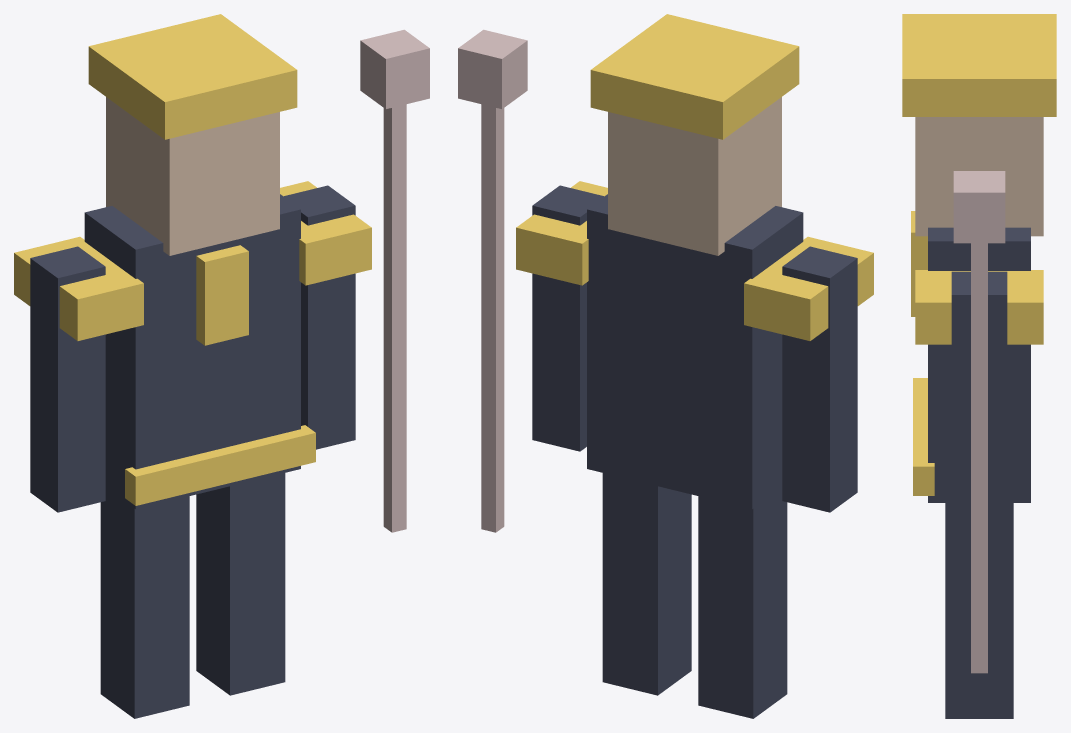
The model's file is 18_calder_stormhush_responder_near_freight.glb.
3 views of the same model, side by side, from view 1: azimuth 30°, elevation 25°; view 2: azimuth 150°, elevation 25°; view 3: azimuth 270°, elevation 25° (orthographic).
Visible parts, largest first — view 1: Calder Stormhush, Responder near Freight; view 2: Calder Stormhush, Responder near Freight; view 3: Calder Stormhush, Responder near Freight.
Boxes of the visible parts, bbox=[...] form: Calder Stormhush, Responder near Freight: bbox=[14, 14, 429, 718]; Calder Stormhush, Responder near Freight: bbox=[458, 14, 873, 718]; Calder Stormhush, Responder near Freight: bbox=[902, 14, 1056, 718].
Size of the model in its own units: 1.01 by 1.63 by 0.3582.
